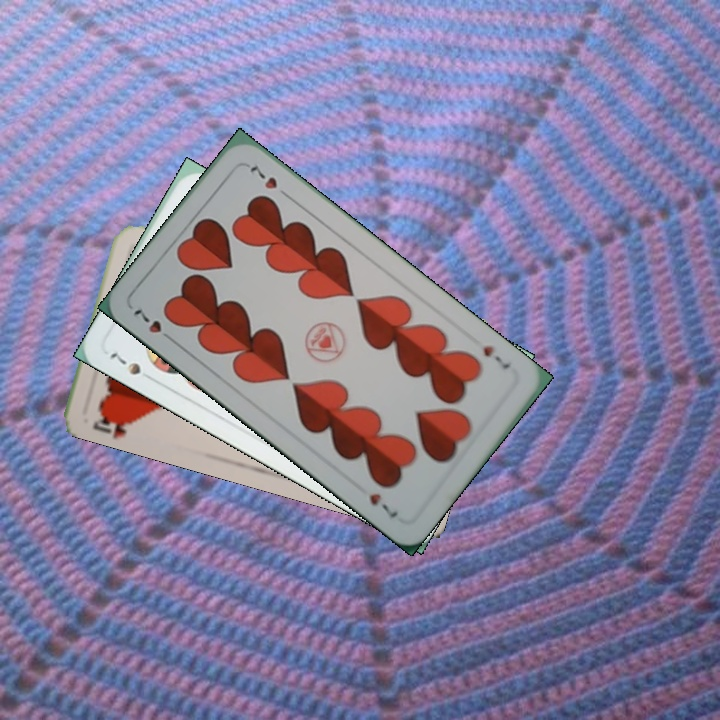H7: (128, 304, 178, 346), (478, 341, 513, 373)
HO: (89, 407, 139, 441)
S7: (103, 347, 157, 384)
